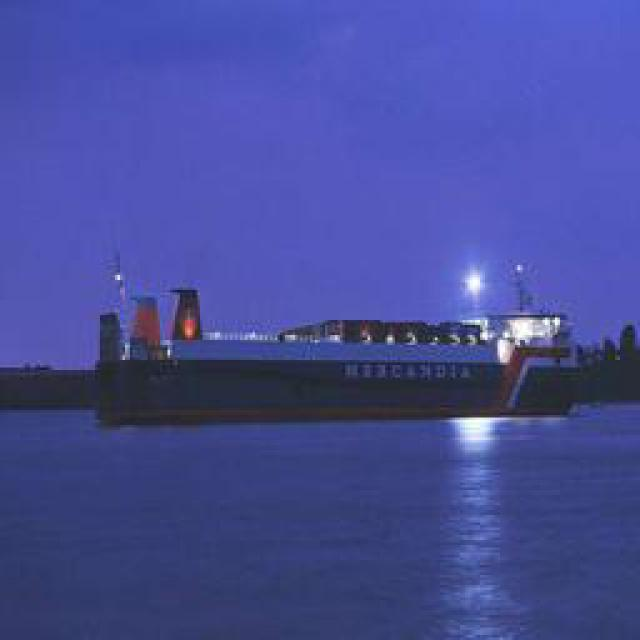Ship: (82, 226, 586, 430)
